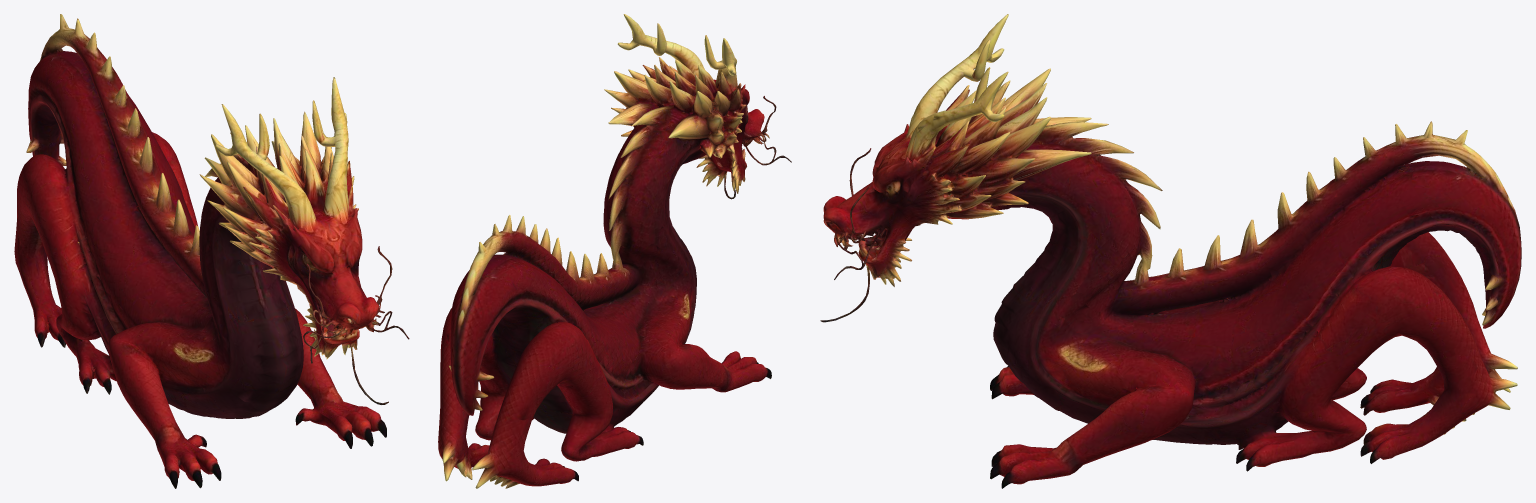
Rendered from dragon.glb.
3 renders of one model, left to right at view 1: azimuth 30°, elevation 25°; view 2: azimuth 150°, elevation 25°; view 3: azimuth 270°, elevation 25°, orthographic. The views are drawn at different scales.
Size of the model in its own units: 0.7132 by 1.18 by 1.91.
1 material, 1 textured.
